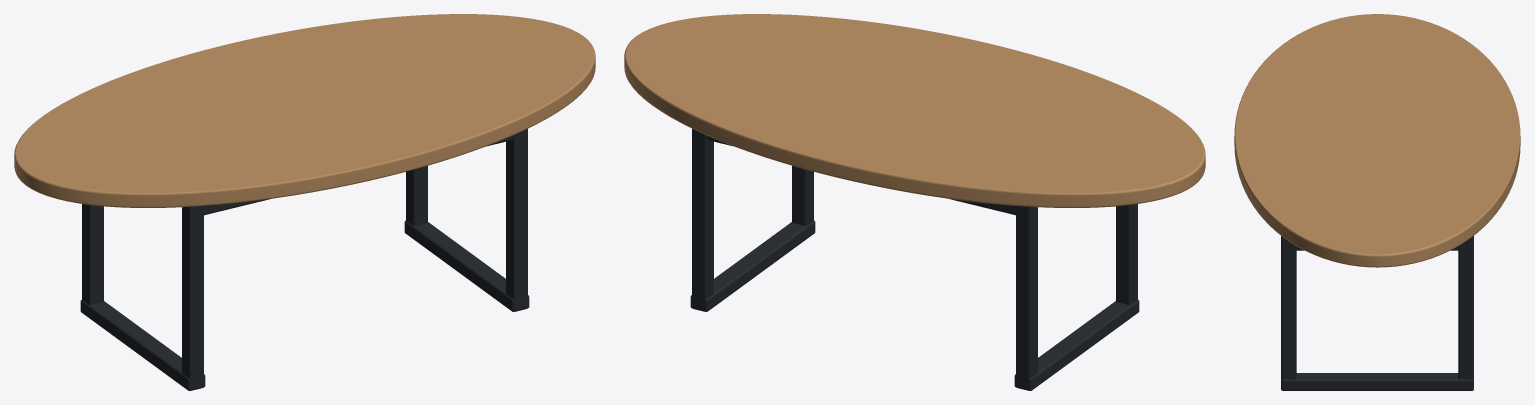
File: coffeeTable-2.glb
The picture shows the model from 3 angles, left to right: view 1: azimuth 30°, elevation 25°; view 2: azimuth 150°, elevation 25°; view 3: azimuth 270°, elevation 25°; orthographic projection. The views are drawn at different scales.
Parts seen in each view (by area): view 1: coffeeTable:2:archviz; view 2: coffeeTable:2:archviz; view 3: coffeeTable:2:archviz.
Part boxes in pixels (box(x1,y1,x2,y2)): coffeeTable:2:archviz: box(14, 14, 595, 390); coffeeTable:2:archviz: box(624, 14, 1205, 390); coffeeTable:2:archviz: box(1234, 14, 1520, 390).
Size of the model in its own units: 1.1 by 0.39 by 0.5501.
